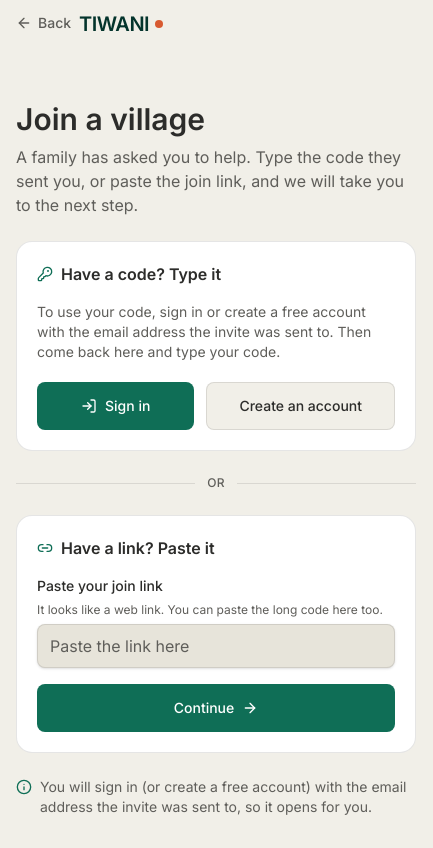
Test case: JoinView › shows the error on an empty submit and clears it once the helper types again
Step 1. Click the button "Continue" → coordinates (216, 708), box x1=37 y1=684 x2=395 y2=732
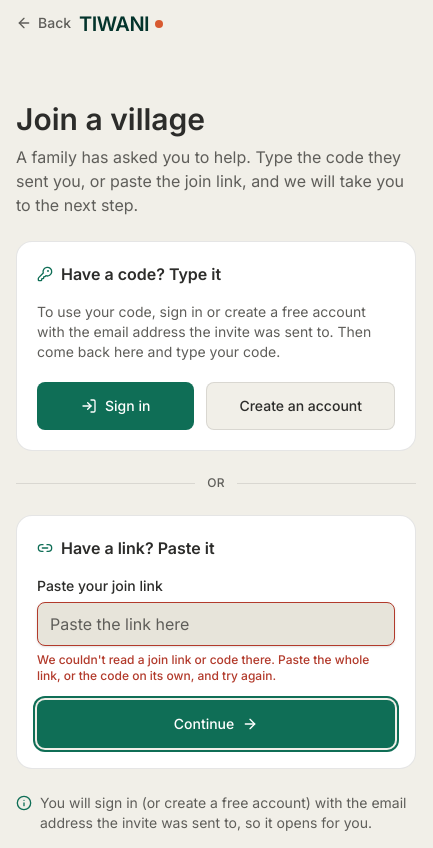
Result: the message is shown at x1=37 y1=652 x2=395 y2=684
# Typing clears the error (the field is no longer in an error state).
Step 2. Type "tok_recover" into the field labelled "Paste your join link" → coordinates (216, 624), box x1=37 y1=602 x2=395 y2=646
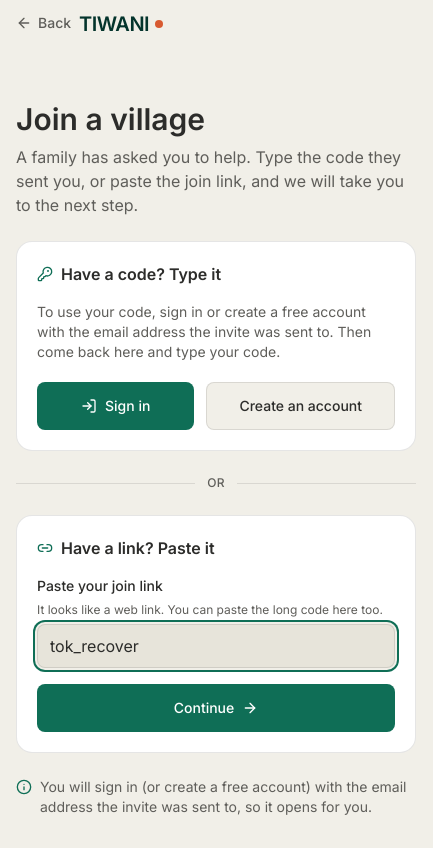
Result: the message is gone
